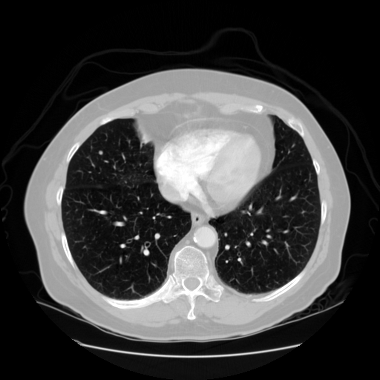nodule: (98, 150, 102, 154)
